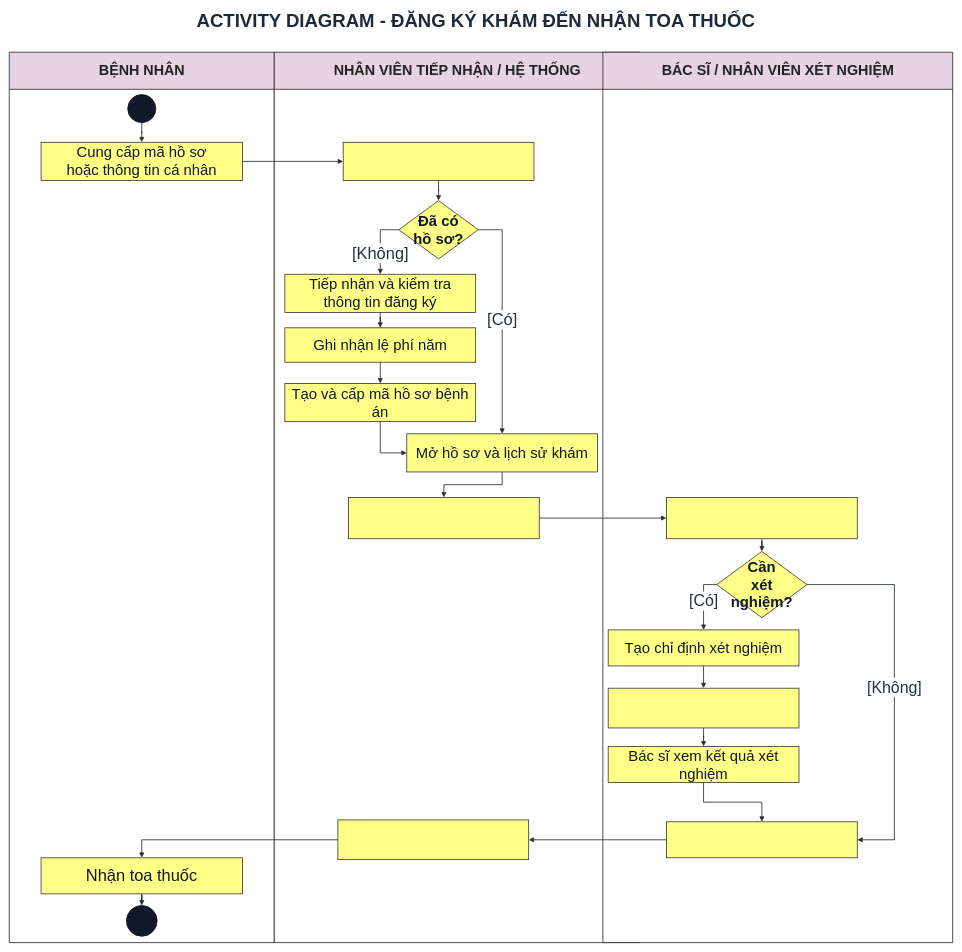
The diagram is 962 pixels wide and 952 high, and some of its shapes have lost their labels. The shapes that lost their labels are listed below. From the top down, each one's centre as x and y in pixels, then its label:
At (x=438, y=161): "Tra cứu hồ sơ bệnh án".
At (x=443, y=518): "Lập phiếu khám, chọn khoa và bác sĩ".
At (x=761, y=518): "Khám bệnh, ghi triệu chứng và chẩn đoán".
At (x=703, y=708): "Thực hiện xét nghiệm và nhập kết quả".
At (x=433, y=839): "Lưu toa thuốc và hoàn tất phiếu khám".
At (x=761, y=839): "Lập toa thuốc và lời dặn".
